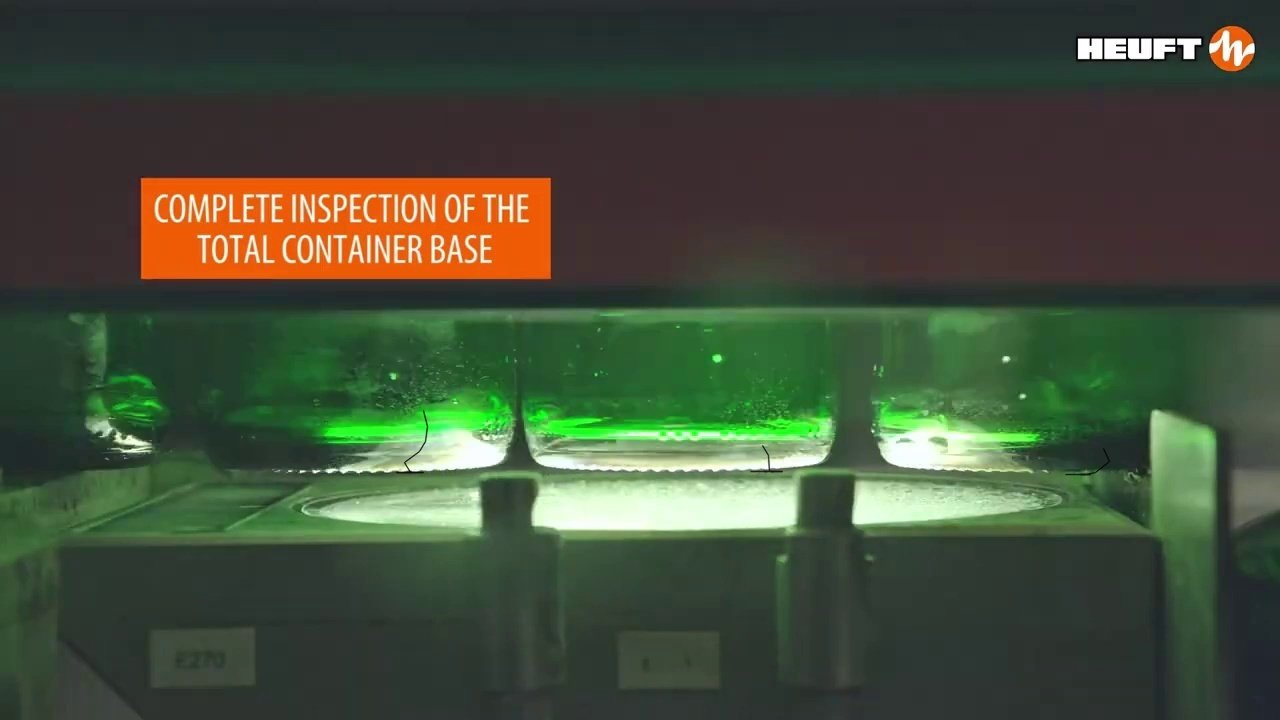bottle: (32, 26, 1047, 458), (518, 303, 835, 475), (190, 307, 518, 473)
crack: (396, 410, 427, 472), (1065, 448, 1109, 474)
